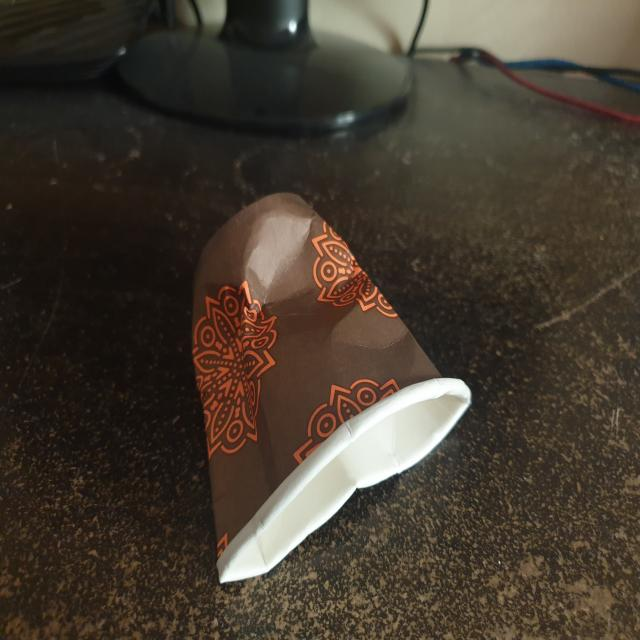cups: (185, 188, 478, 592)
